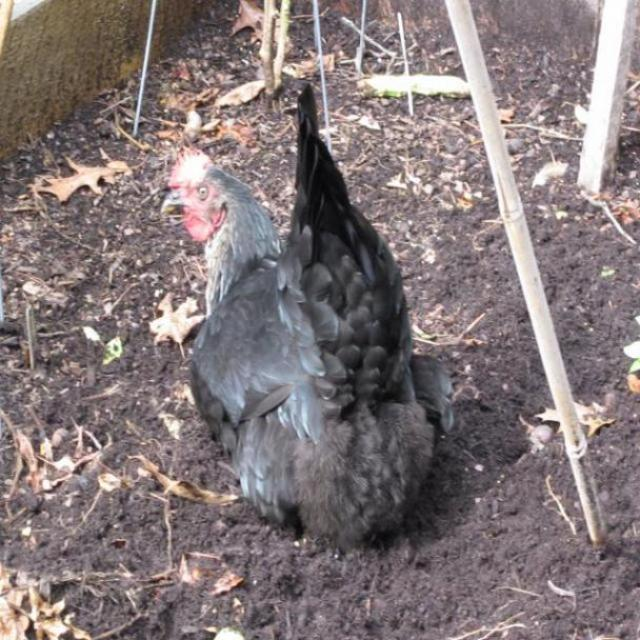Chicken: (162, 80, 439, 538)
